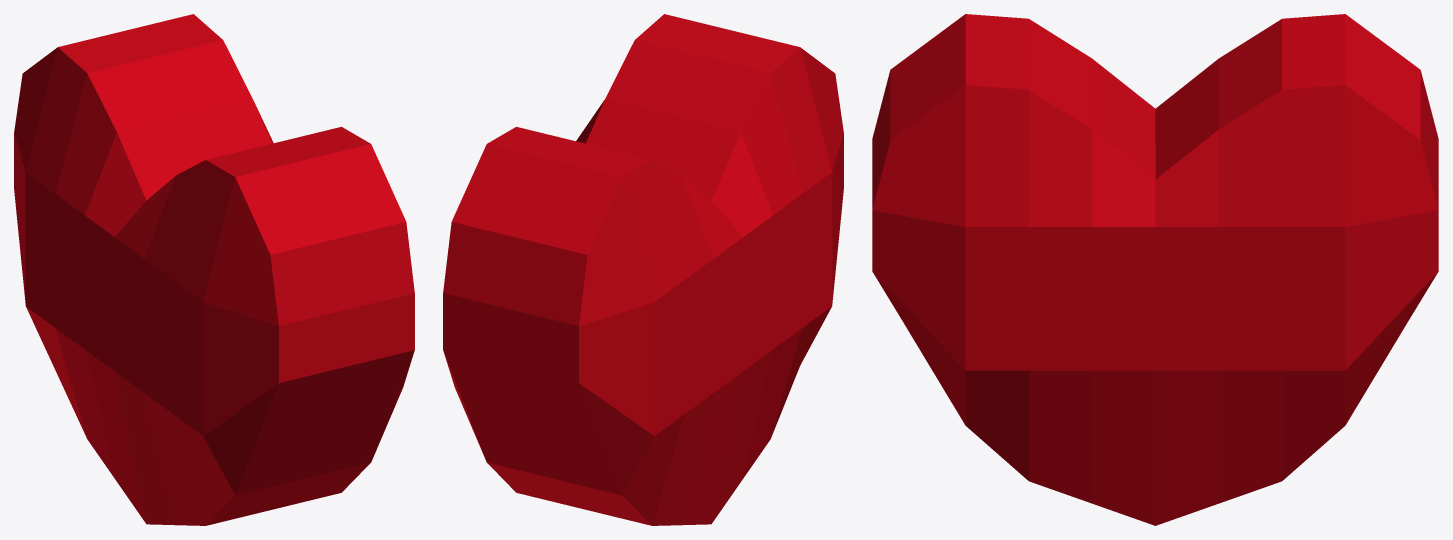
Rendered from extra_health.glb.
The picture shows the model from 3 angles, left to right: view 1: azimuth 30°, elevation 25°; view 2: azimuth 150°, elevation 25°; view 3: azimuth 270°, elevation 25°; orthographic projection. The views are drawn at different scales.
Visible parts, largest first — view 1: Cube; view 2: Cube; view 3: Cube.
Boxes of the visible parts, bbox=[...] form: Cube: bbox=[14, 14, 414, 525]; Cube: bbox=[443, 14, 843, 525]; Cube: bbox=[872, 14, 1438, 525].
Bounding box in the file's own units: 0.1803 × 0.3554 × 0.4138.
Materials: 1 (1 with a texture image).
